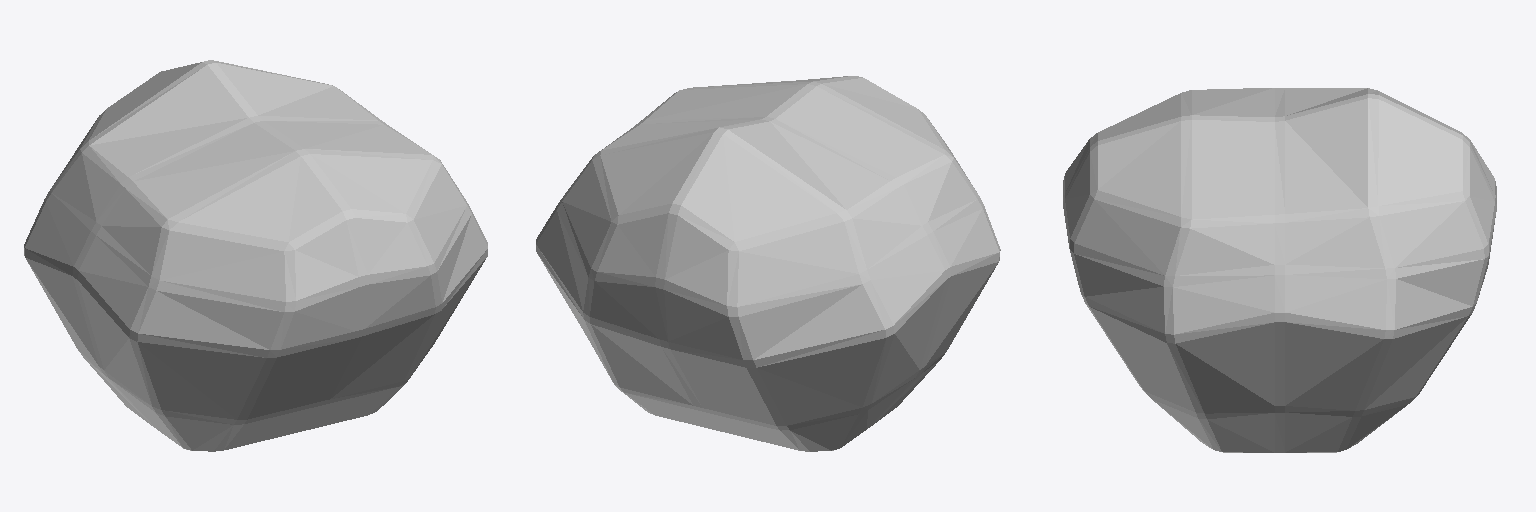
Rendered from SmolBuske.obj.
3 views of the same model, side by side, from view 1: azimuth 30°, elevation 25°; view 2: azimuth 150°, elevation 25°; view 3: azimuth 270°, elevation 25° (orthographic).
Visible parts, largest first — view 1: Cube.001; view 2: Cube.001; view 3: Cube.001.
Boxes of the visible parts, x1,y1,x2,y2 form: Cube.001: [24, 60, 487, 451]; Cube.001: [536, 76, 1000, 451]; Cube.001: [1063, 88, 1496, 452].
Bounding box in the file's own units: 1.75 × 1.48 × 1.82.